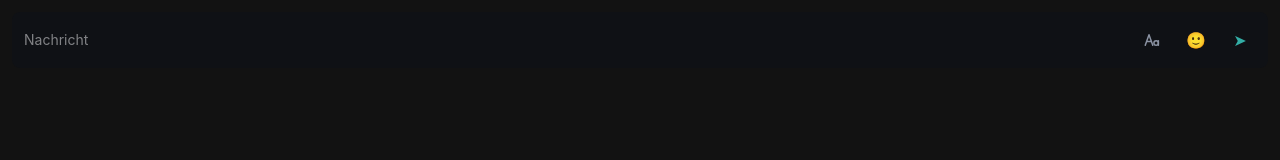
Test case: Composer: mention autocomplete › is a combobox: aria-expanded, aria-controls and aria-activedescendant follow the list
The image size is (1280, 160).
Type "@ca" into the dropdown labelled "Nachricht" at (574, 40), box 20,20 -> 1128,60
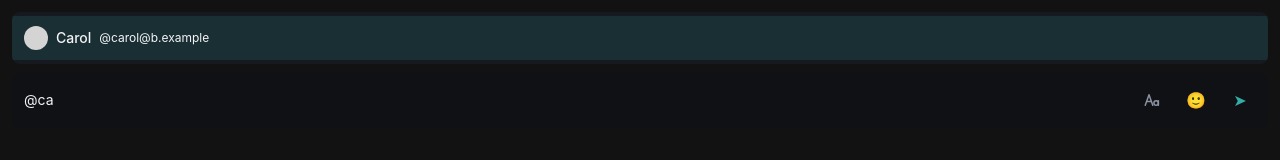
Result: the dropdown named "Nachricht" is expanded at 20,80 -> 1128,120
